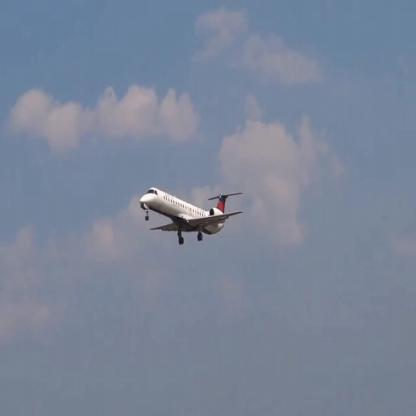CIV_Plane: (135, 183, 245, 244)
